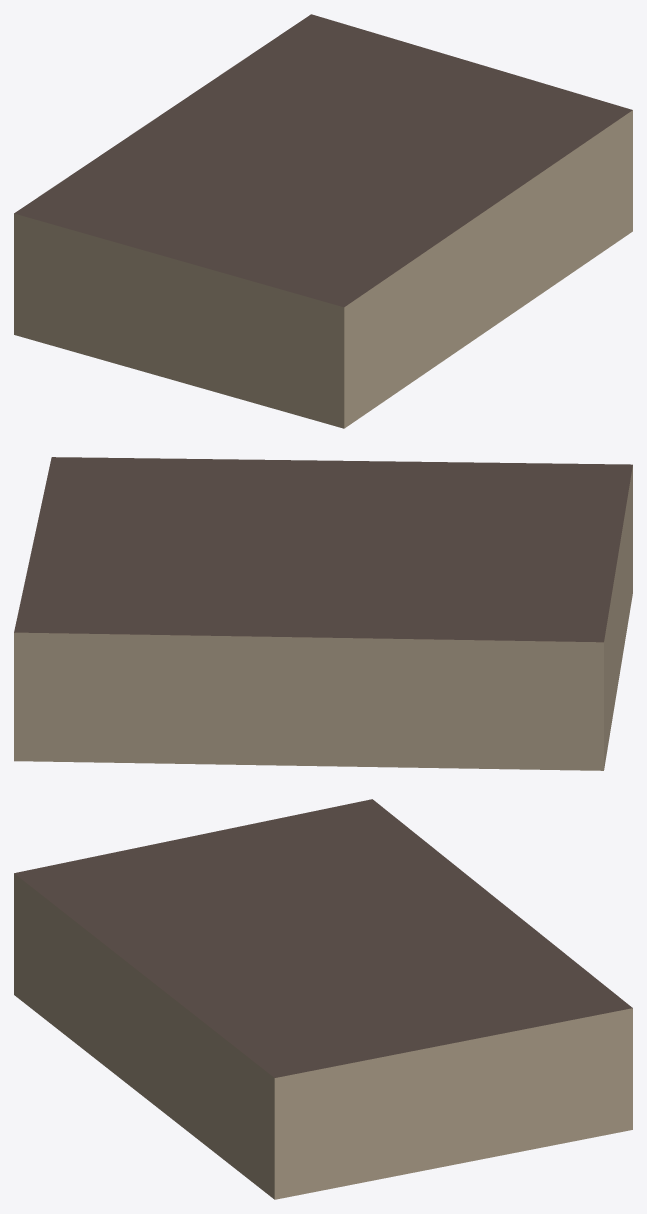
The picture shows the model from 3 angles, top to bottom: view 1: azimuth 30°, elevation 25°; view 2: azimuth 150°, elevation 25°; view 3: azimuth 270°, elevation 25°; orthographic projection. The views are drawn at different scales.
Parts seen in each view (by area): view 1: HP-w1512359756; view 2: HP-w1512359756; view 3: HP-w1512359756.
Part boxes in pixels (x1,y1,x2,y2): HP-w1512359756: (14, 14, 632, 428); HP-w1512359756: (14, 457, 632, 770); HP-w1512359756: (14, 799, 632, 1199).
Size of the model in its own units: 44.24 by 9 by 41.48.
